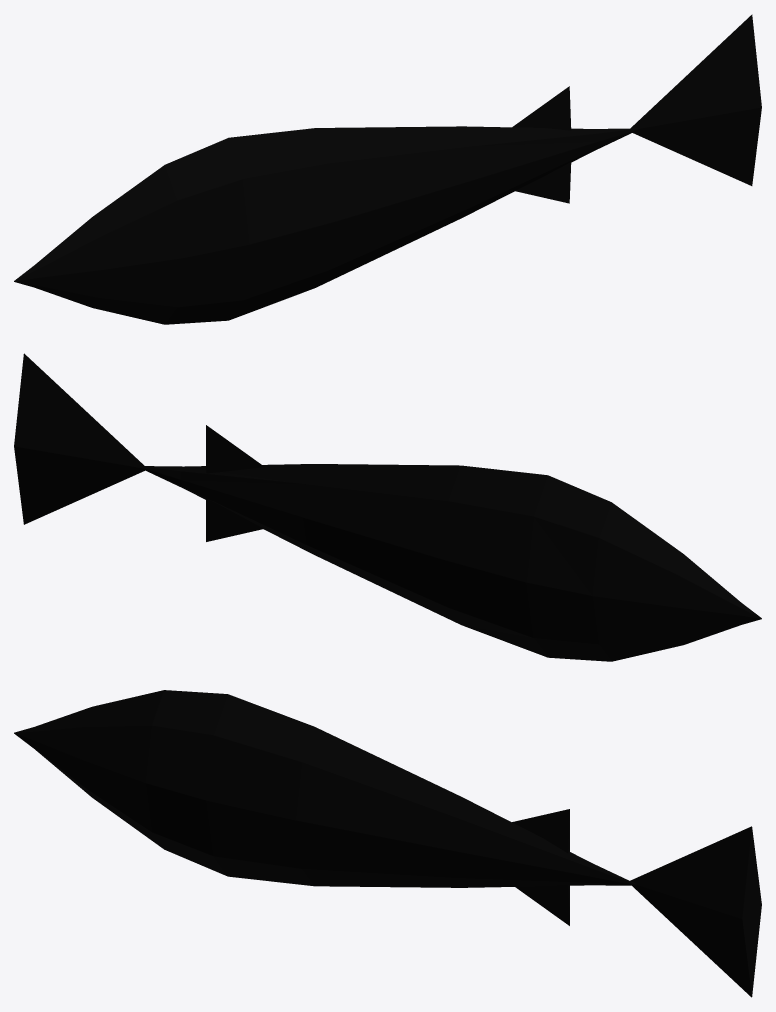
File: Fish.glb
3 views of the same model, one above another, from view 1: azimuth 30°, elevation 25°; view 2: azimuth 150°, elevation 25°; view 3: azimuth 330°, elevation 25° (orthographic).
Parts seen in each view (by area): view 1: Fish; view 2: Fish; view 3: Fish.
Part boxes in pixels (x1=…): Fish: x1=14, y1=14, x2=761, y2=324; Fish: x1=14, y1=353, x2=761, y2=661; Fish: x1=14, y1=690, x2=761, y2=997.
Size of the model in its own units: 98.89 by 23.4 by 9.97.
1 material, 1 textured.
